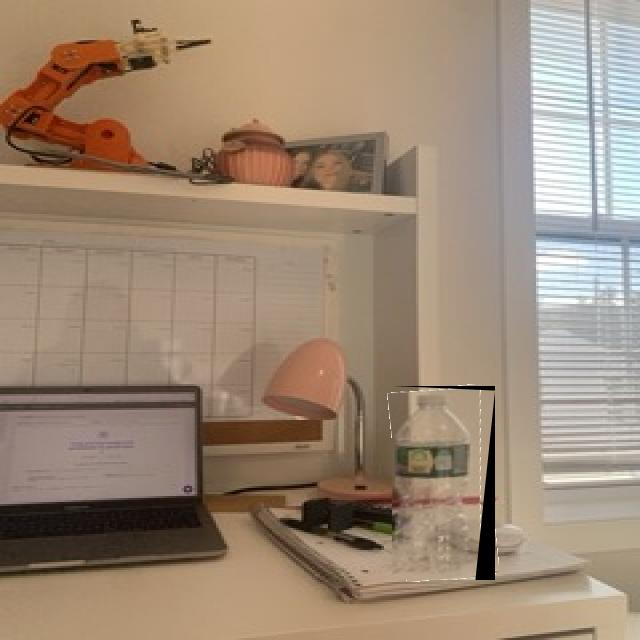water_bottle: (392, 386, 495, 580)
